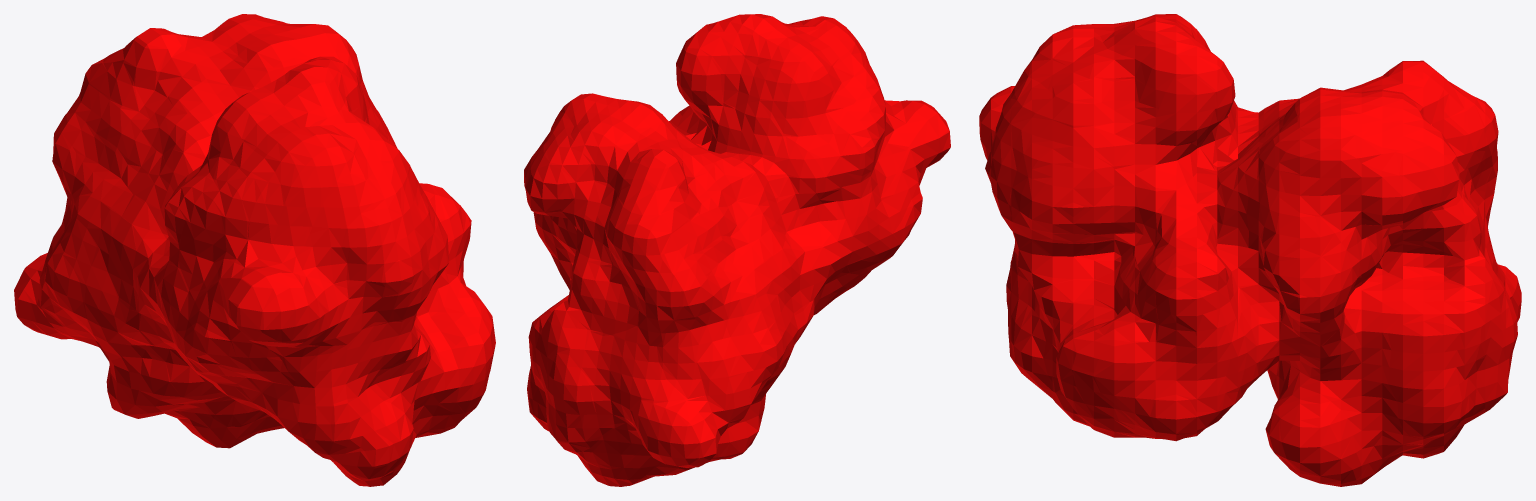
File: hisD_coarse.dae
3 views of the same model, side by side, from view 1: azimuth 30°, elevation 25°; view 2: azimuth 150°, elevation 25°; view 3: azimuth 270°, elevation 25° (orthographic). The views are drawn at different scales.
Visible parts, largest first — view 1: hisD; view 2: hisD; view 3: hisD.
Part boxes in pixels (box(x1,y1,x2,y2)): hisD: box(14, 14, 495, 486); hisD: box(524, 14, 950, 486); hisD: box(979, 14, 1521, 486).
Bounding box in the file's own units: 58.73 × 77.53 × 87.63.
